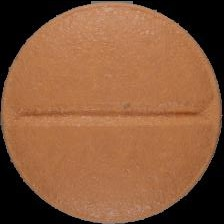0904-5928: (0, 0, 224, 224)
